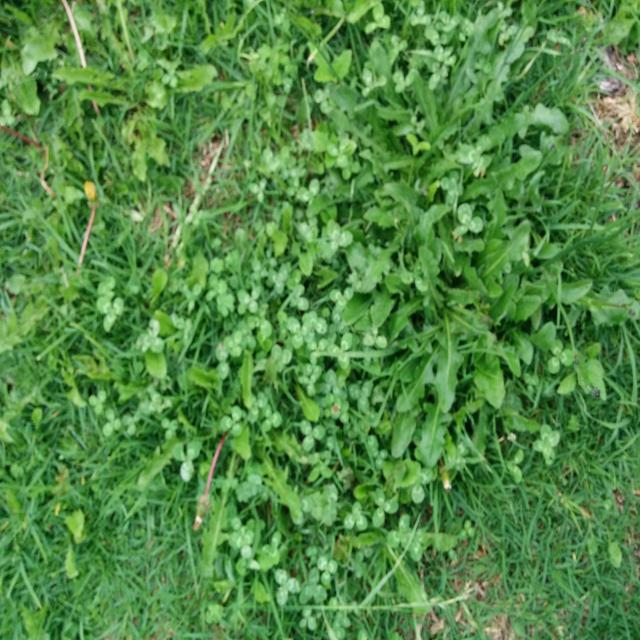Four Leaf Clover: (533, 424, 560, 461), (440, 170, 463, 202)
